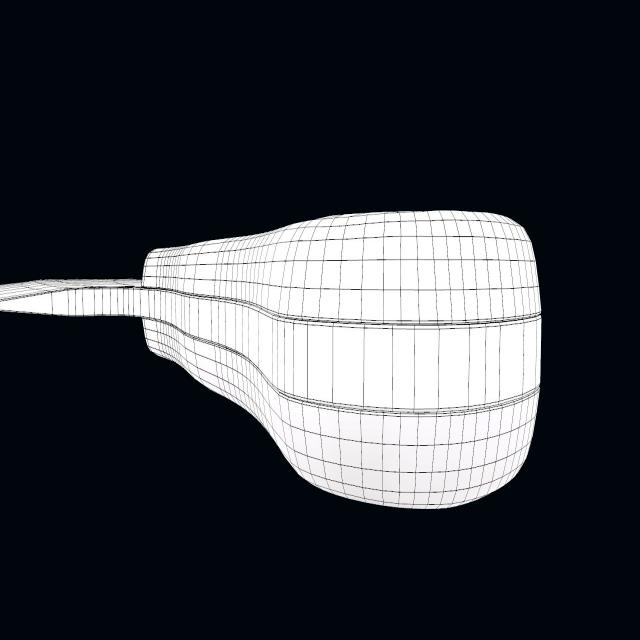cleaver: (0, 207, 542, 506)
